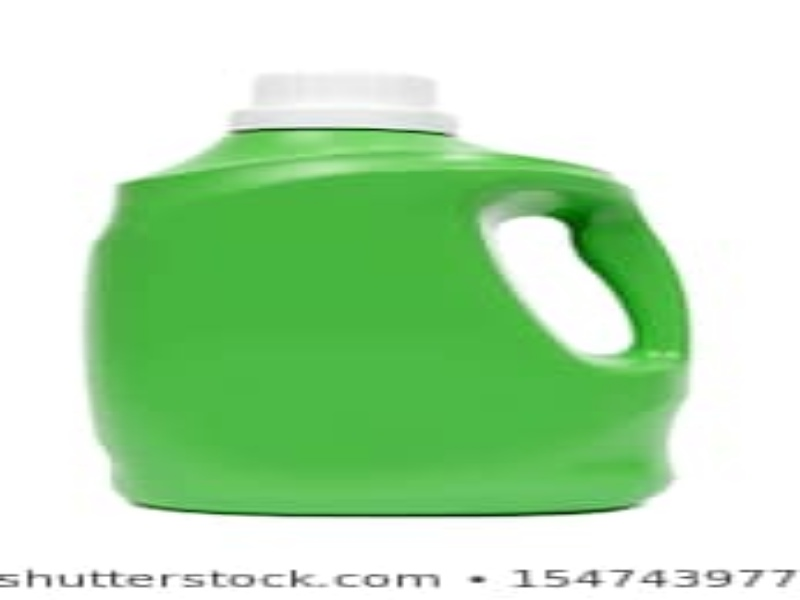detergent-bottle: (72, 65, 735, 522)
